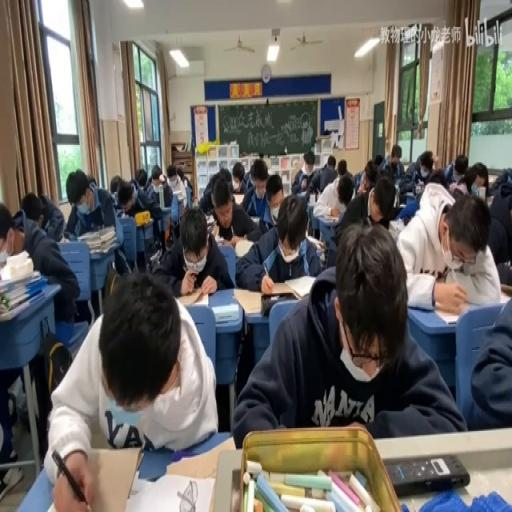calculator: (124, 471, 216, 512), (165, 434, 232, 480), (231, 283, 301, 313), (0, 268, 42, 292), (283, 273, 318, 297), (212, 302, 240, 324), (180, 290, 210, 307), (234, 238, 254, 258), (214, 229, 239, 245), (306, 232, 326, 249), (205, 212, 216, 235), (148, 249, 160, 266), (387, 219, 401, 233), (496, 289, 510, 303), (230, 192, 245, 205), (320, 213, 339, 222), (0, 249, 8, 267), (404, 189, 416, 201), (414, 180, 424, 194), (306, 196, 315, 209), (294, 191, 308, 199), (250, 214, 260, 224), (59, 235, 69, 243), (398, 202, 406, 209)
paper: (232, 222, 459, 444), (45, 270, 215, 506), (394, 184, 500, 308), (6, 192, 78, 327), (461, 286, 512, 431), (153, 205, 230, 297), (320, 170, 366, 254), (64, 168, 116, 242), (131, 165, 167, 252), (486, 168, 512, 263), (241, 158, 276, 225), (359, 173, 397, 229), (398, 148, 434, 200), (290, 151, 324, 196), (0, 204, 24, 260), (166, 162, 186, 213), (442, 150, 468, 188), (380, 145, 405, 179), (19, 191, 44, 223), (198, 174, 218, 214), (116, 180, 138, 214), (462, 164, 485, 196), (228, 159, 246, 192), (425, 168, 449, 190), (496, 260, 512, 289), (134, 166, 148, 190), (364, 163, 378, 185), (338, 189, 352, 211), (109, 174, 121, 196), (220, 166, 233, 185), (150, 166, 162, 185), (353, 172, 363, 194), (243, 170, 254, 190), (337, 158, 346, 175), (326, 155, 335, 171), (11, 208, 22, 220), (373, 154, 382, 168), (182, 175, 191, 189), (432, 155, 439, 169), (87, 174, 95, 184)
person: (384, 452, 470, 494)
